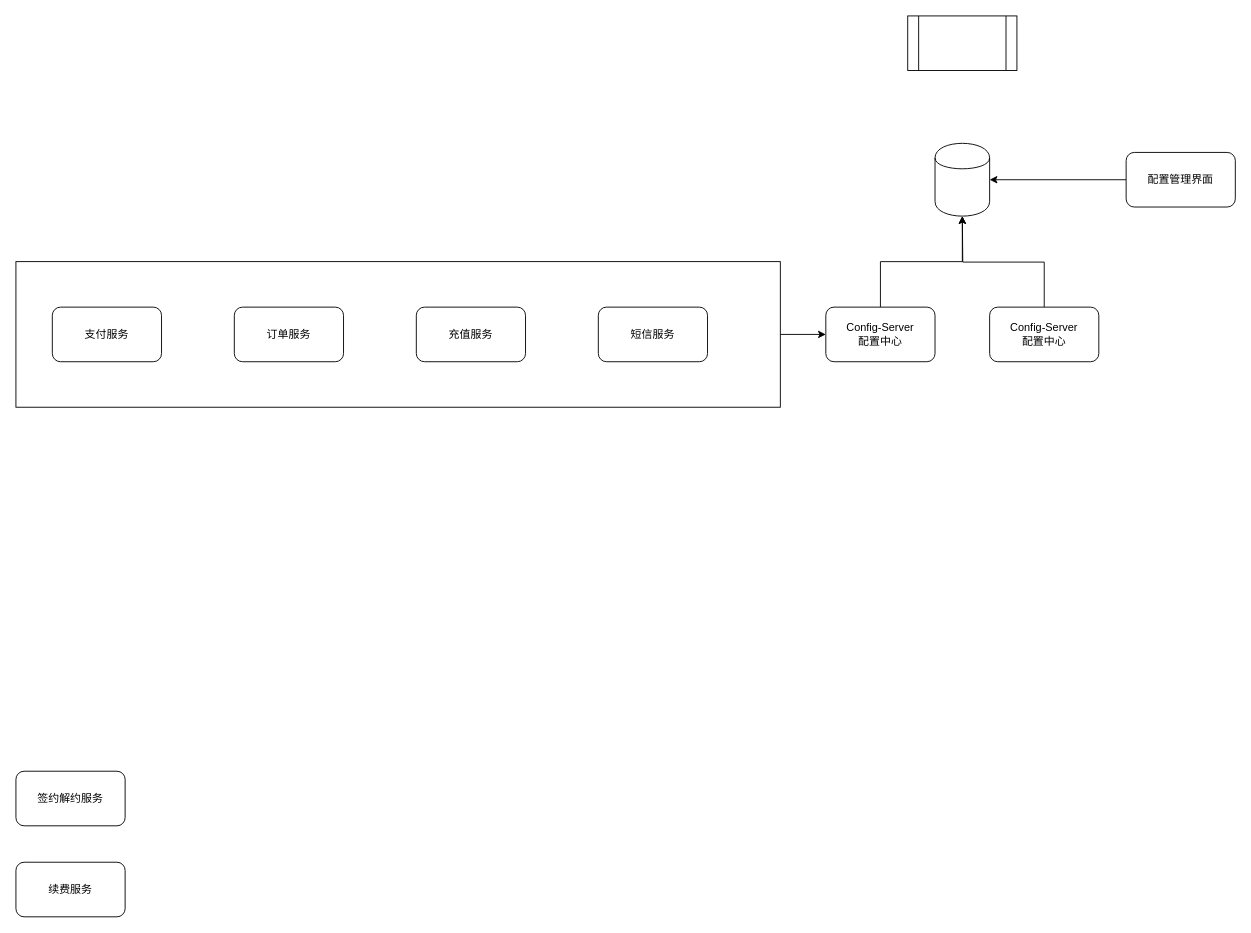
The diagram is 1251 pixels wide and 933 high, and some of its shapes have lost their labels. The shapes that lost their labels are listed below. From the top down, each one's centre as x and y in pixels, then its label:
At pixel 962 43: "RabbitMQ Bus消息总线".
At pixel 962 179: "GitLab".
